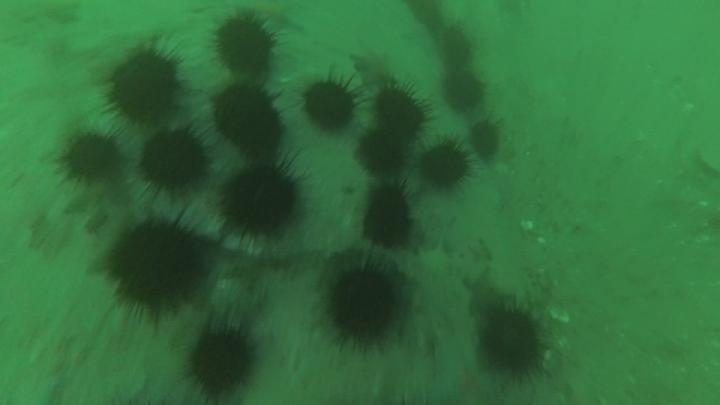echinus: (107, 221, 205, 310), (220, 163, 303, 239), (104, 48, 183, 127), (325, 265, 403, 344), (184, 321, 260, 400), (212, 84, 285, 156), (476, 305, 547, 378), (138, 128, 210, 194), (211, 14, 279, 78), (360, 183, 417, 250), (58, 129, 123, 185), (301, 76, 359, 133), (372, 83, 430, 138), (418, 140, 472, 190), (356, 129, 406, 177), (441, 68, 487, 114), (435, 24, 477, 71), (467, 118, 503, 162), (403, 1, 447, 35)
holothurian: (397, 249, 467, 353), (403, 240, 490, 288)
starfish: (423, 342, 502, 405), (461, 268, 510, 319), (349, 47, 398, 91), (251, 7, 307, 37)
